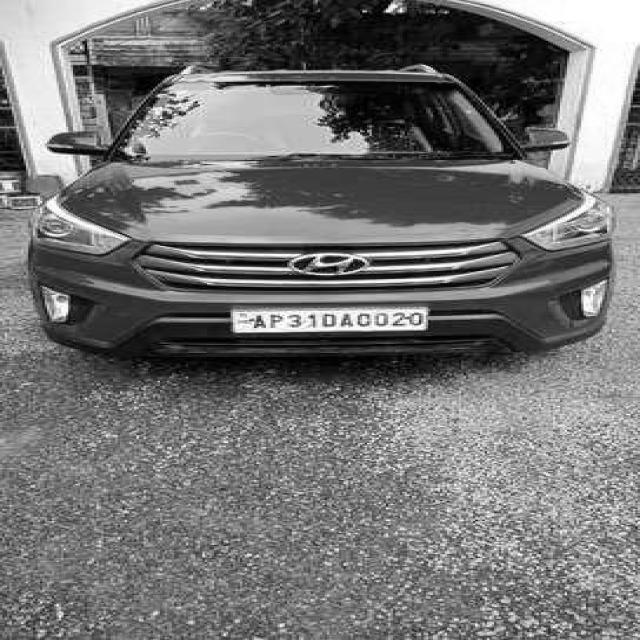car: (33, 64, 619, 368)
license-plate: (230, 309, 426, 336)
